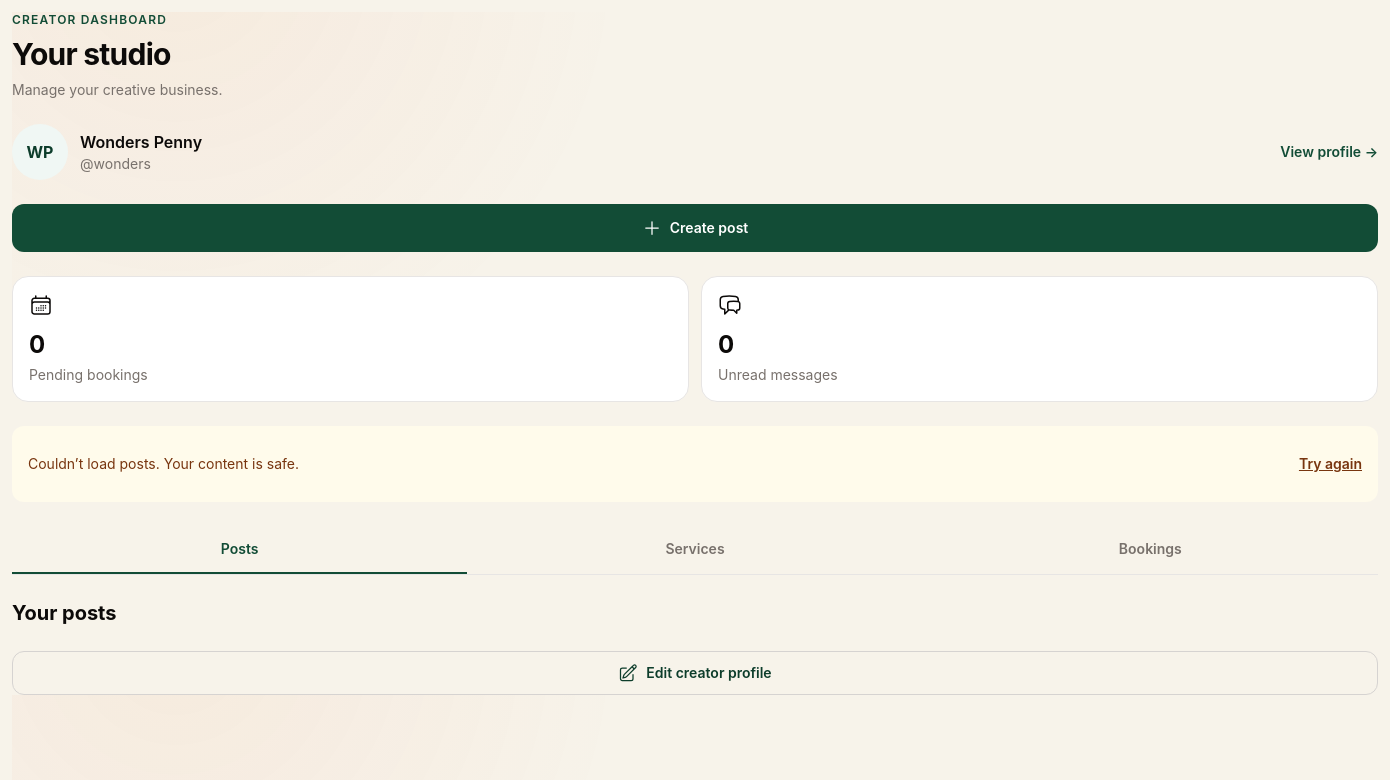
Scenario: shows failure instead of an empty state, and retries
Expected: the message shows "Couldn’t load posts", [12, 426, 1378, 502]
Expected: the text "Share your first post" is not shown
Click the button "Try again" at (1330, 464), box [1299, 442, 1362, 486]
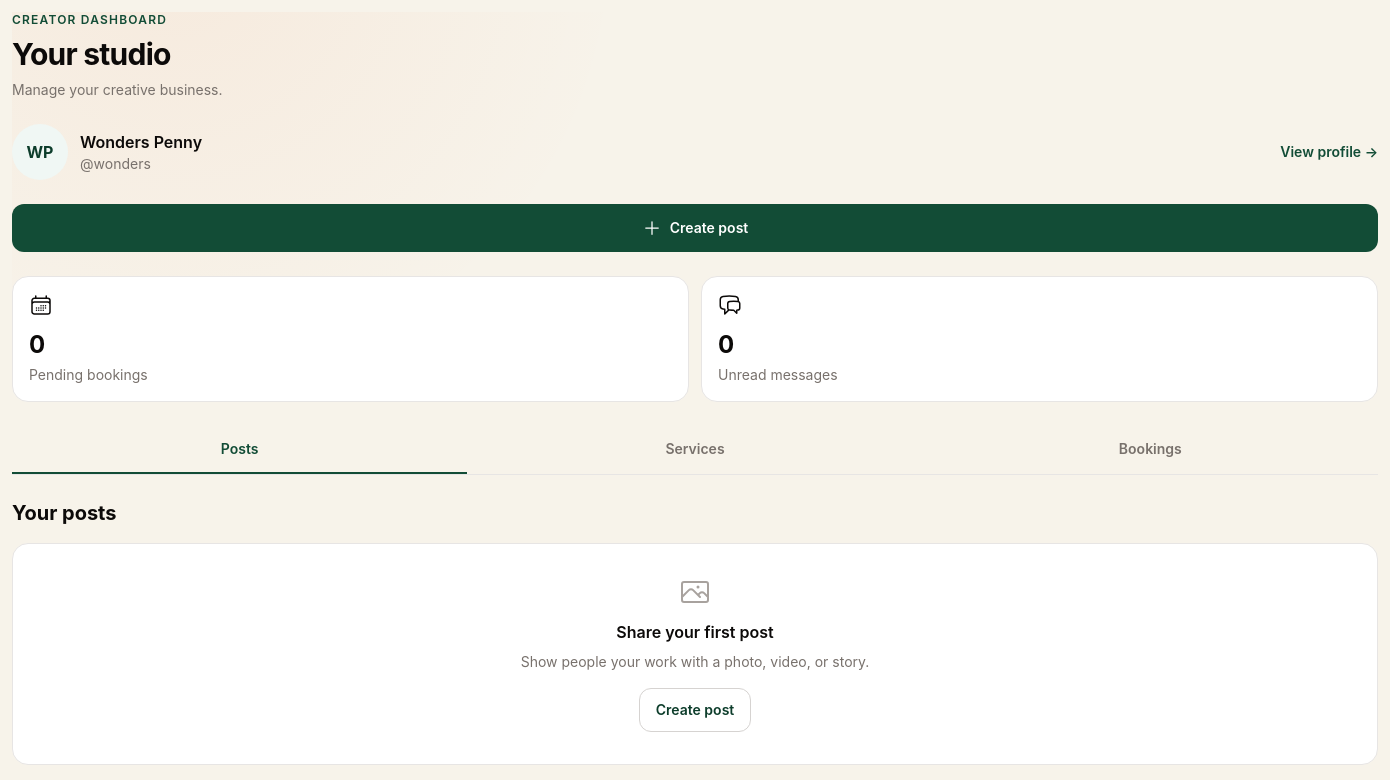
Expected: the heading "Share your first post" is shown, [616, 622, 774, 642]
